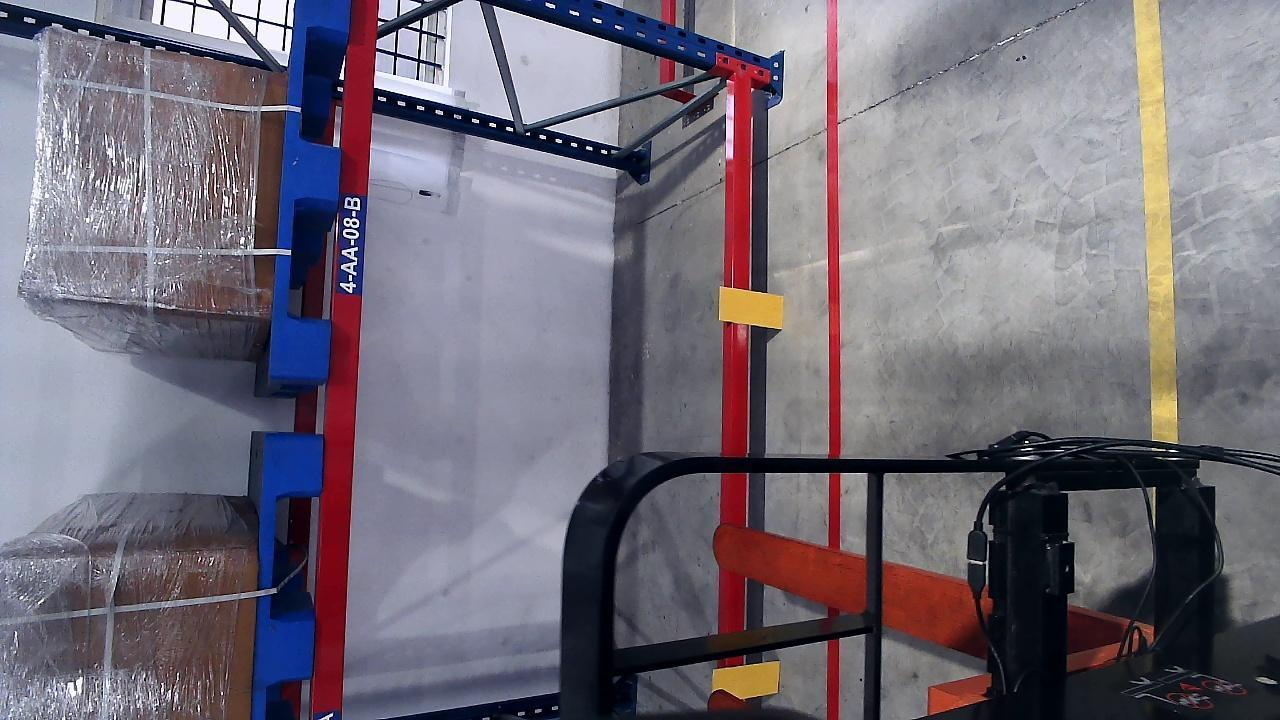red_line: (819, 0, 844, 543)
yellow_line: (1134, 0, 1180, 443)
